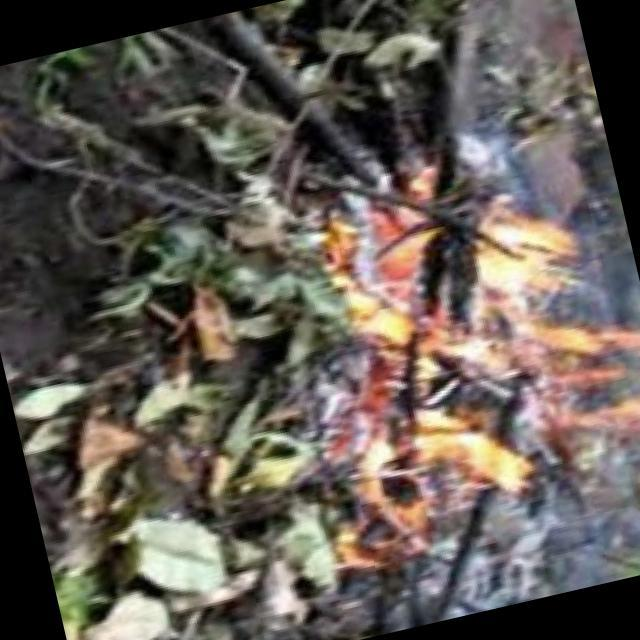Fire: (296, 127, 640, 561)
